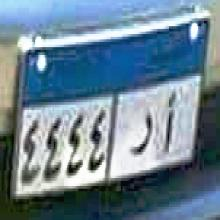4: (42, 111, 62, 184), (86, 107, 107, 175), (66, 109, 84, 184), (22, 115, 40, 187)
alif: (162, 90, 177, 154)
raa: (130, 107, 154, 161)
